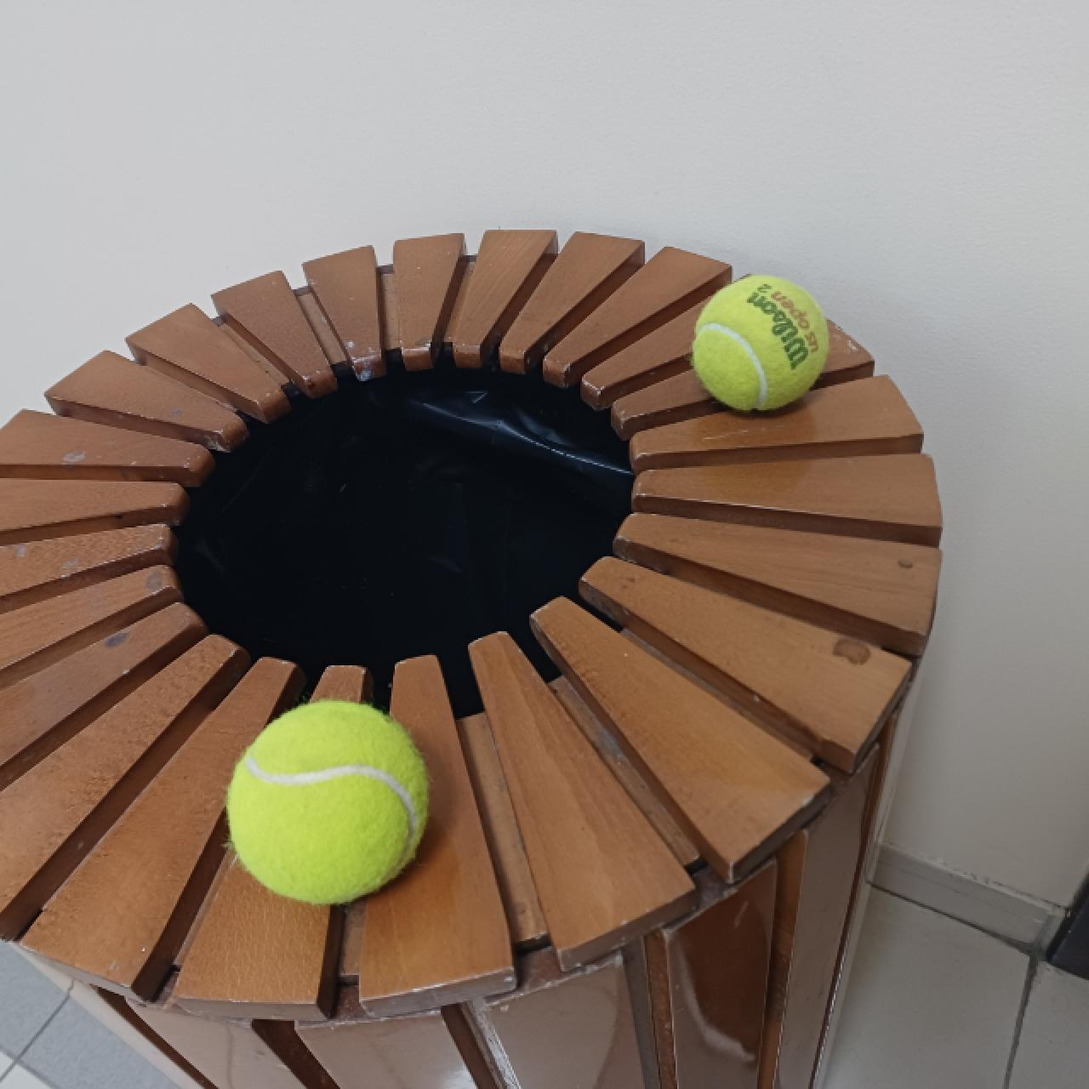tennis-ball: (224, 701, 438, 902), (690, 272, 829, 416)
